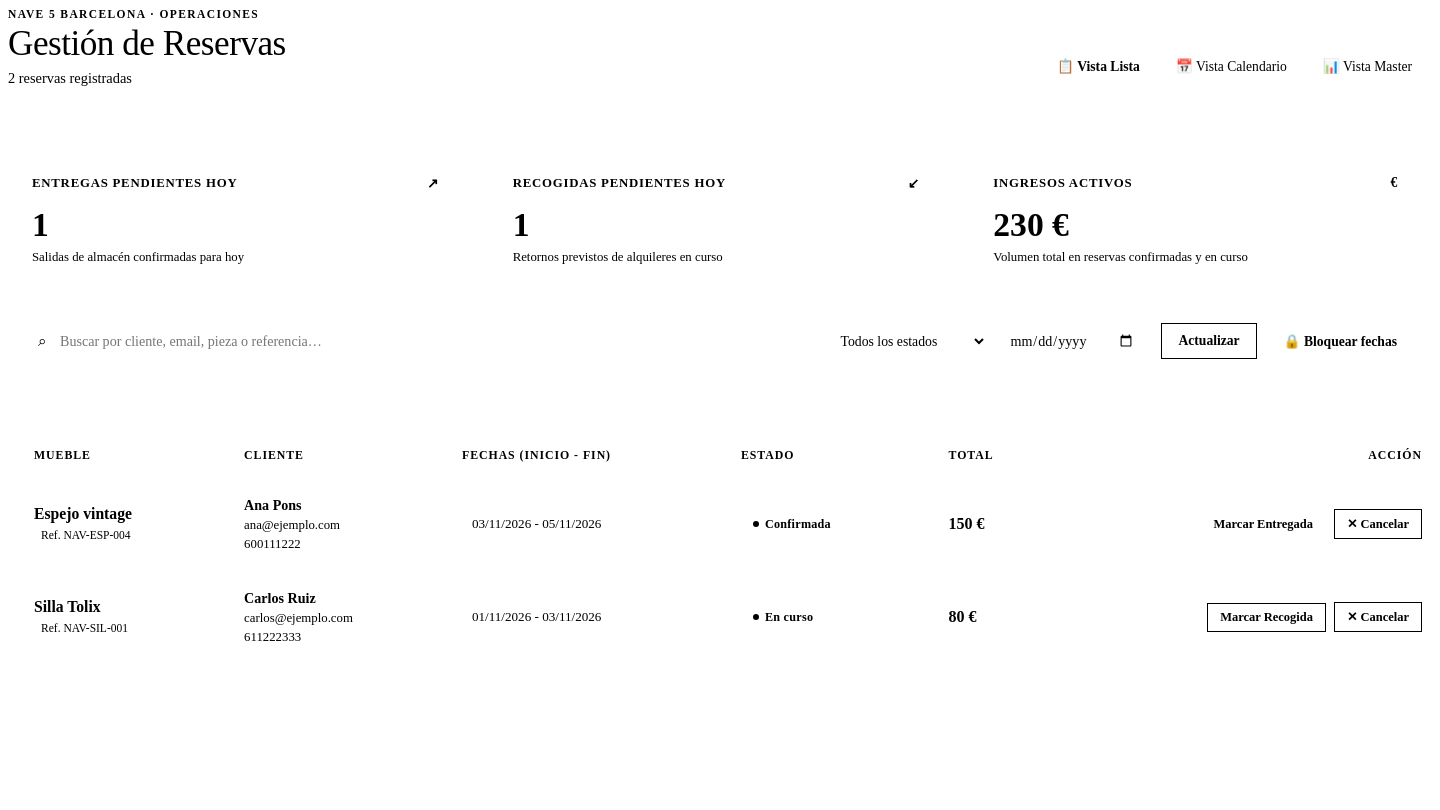
Test: ReservasTab — cobertura de casos restantes › filtros › el filtro de fecha deja las que ocupan ese día (con su margen de ocupación)
Check: the button "Actualizar" is enabled, box [1162, 324, 1257, 360]
Type "2026-11-06" into the date field named "Filtrar por fecha activa". click: (1072, 342)
box: [998, 323, 1148, 360]
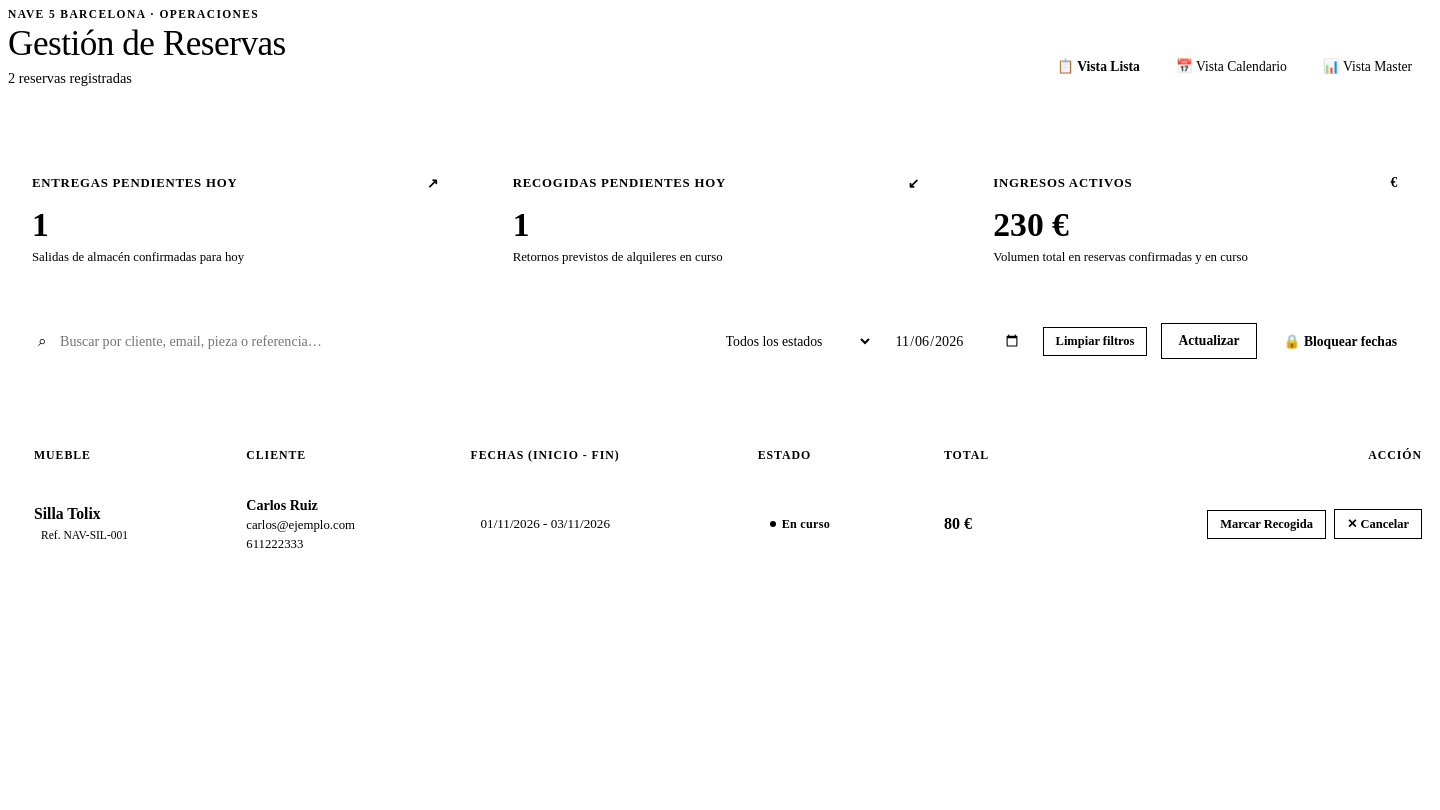
Check: the text "Silla Tolix" is shown, box [34, 506, 101, 522]
Check: the text "Espejo vintage" is gone
